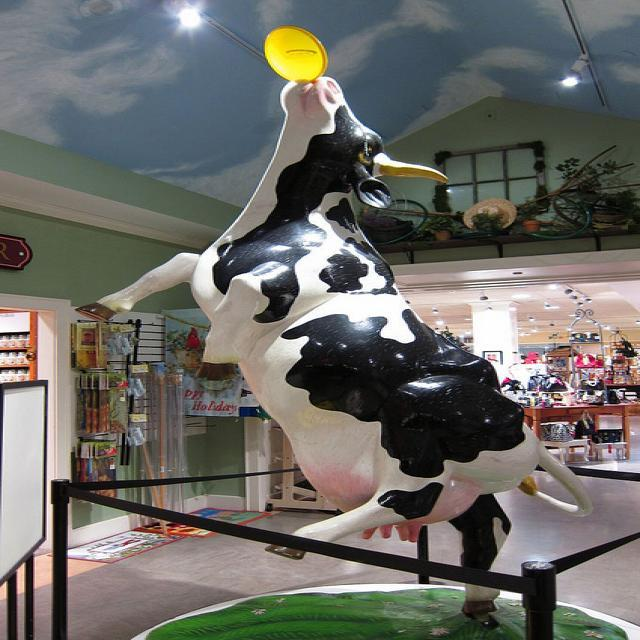cow: (69, 74, 598, 619)
